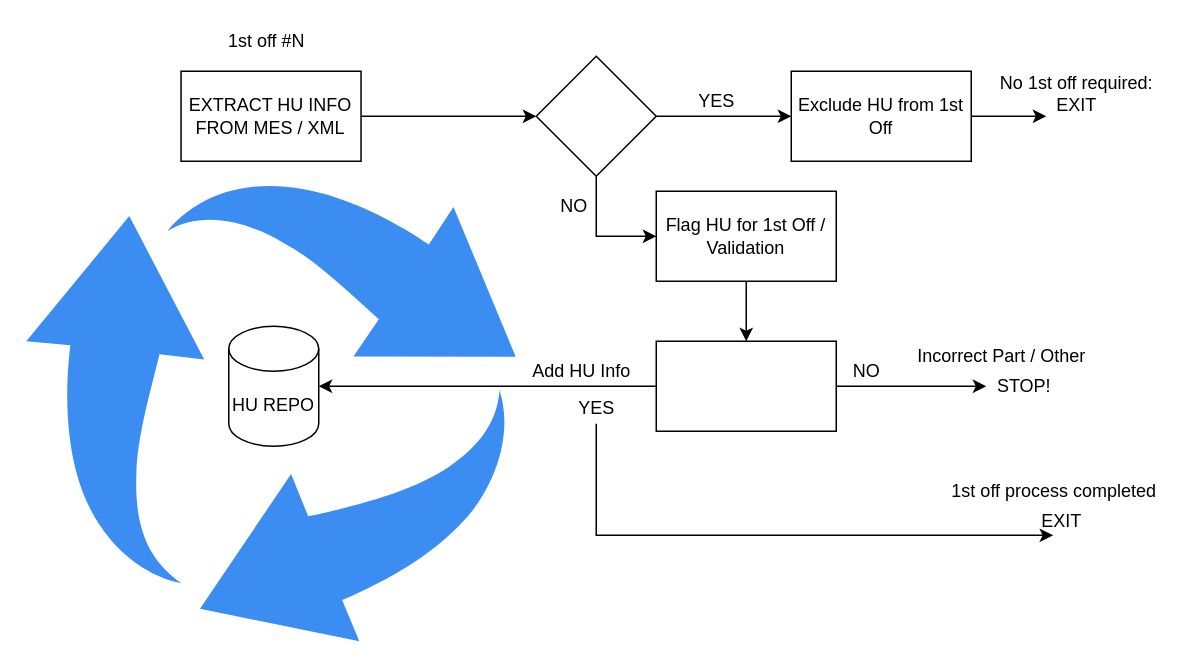
Image size: 1191x666. Some labels were removed from this diagram. The box of each missing label's shape, as (x1, y1, x2, y2) in pixels:
1st off process, Component (HU)Okay?: (655, 340, 836, 431)
IS HU IN REPO?: (535, 55, 656, 176)
